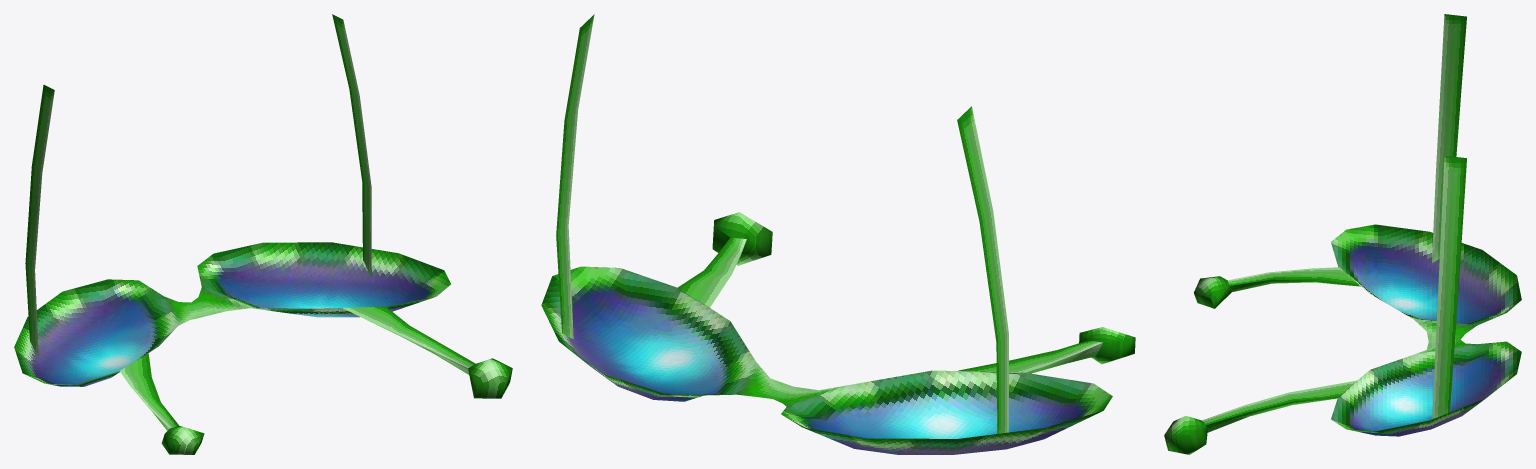
Rendered from tt_m_chr_avt_acc_msk_alienGlasses.glb.
3 renders of one model, left to right at view 1: azimuth 30°, elevation 25°; view 2: azimuth 150°, elevation 25°; view 3: azimuth 270°, elevation 25°, orthographic. The views are drawn at different scales.
Parts seen in each view (by area): view 1: alienGlasses; view 2: alienGlasses; view 3: alienGlasses.
Part boxes in pixels (bbox=[...]): alienGlasses: bbox=[14, 14, 512, 454]; alienGlasses: bbox=[541, 14, 1135, 454]; alienGlasses: bbox=[1164, 14, 1521, 454].
Size of the model in its own units: 4.71 by 3.09 by 3.44.
Materials: 1 (1 with a texture image).
